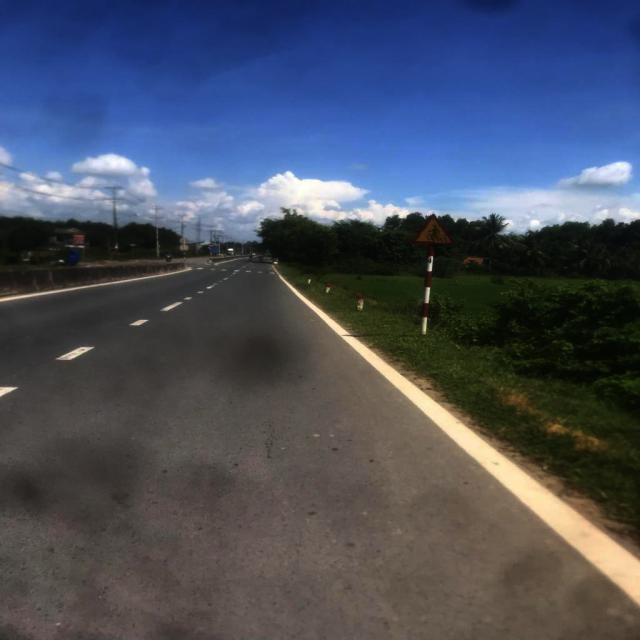224-duong-nguoi-di-bo-cat-ngang: (414, 214, 456, 246)
